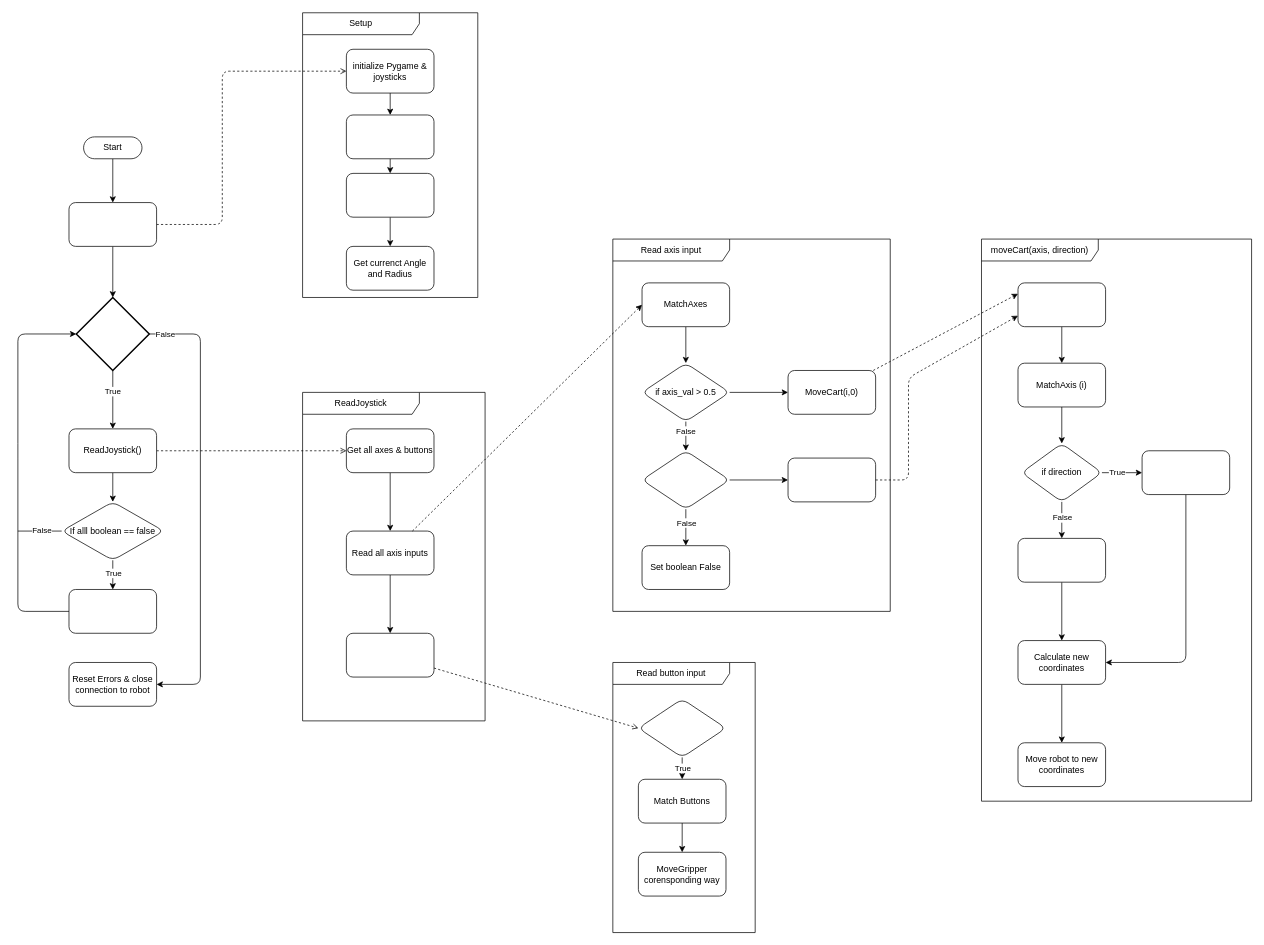
This 1264x945 diagram has some shape labels left out. Here are the shapes that lost their labels. From the top down, the box of each, then its label:
(346, 114, 434, 159): Connect to robot
(346, 173, 434, 217): Initialize & activate gripper
(68, 202, 157, 246): innit
(1017, 282, 1106, 327): Calculate current Radius & Angle (r,a)
(75, 296, 150, 371): while True
(641, 450, 730, 509): if axis_val < -0.5
(787, 457, 876, 502): MoveCart(i,1)
(1141, 450, 1230, 495): Increase corensponding position value
(1017, 538, 1106, 582): Decrease corrensponding position value
(68, 589, 157, 633): Stop movement & clear motion queue
(346, 633, 434, 677): Read all buttons input
(638, 698, 726, 757): if button == high
